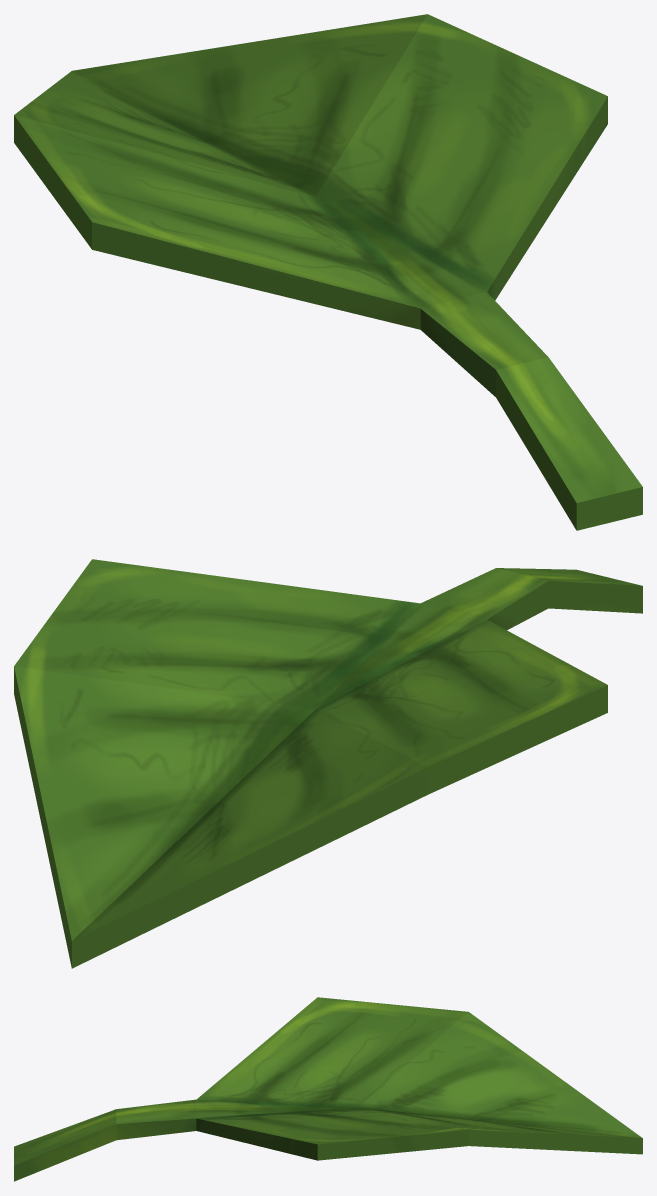
File: BeanstalkLeaf.fbx
3 views of the same model, one above another, from view 1: azimuth 30°, elevation 25°; view 2: azimuth 150°, elevation 25°; view 3: azimuth 270°, elevation 25° (orthographic). The views are drawn at different scales.
Parts seen in each view (by area): view 1: BeanstalkLeaf; view 2: BeanstalkLeaf; view 3: BeanstalkLeaf.
Part boxes in pixels (x1,y1,x2,y2): BeanstalkLeaf: (14,14,642,530); BeanstalkLeaf: (14,559,642,968); BeanstalkLeaf: (14,997,642,1181).
Size of the model in its own units: 1.95 by 0.6264 by 3.52.
